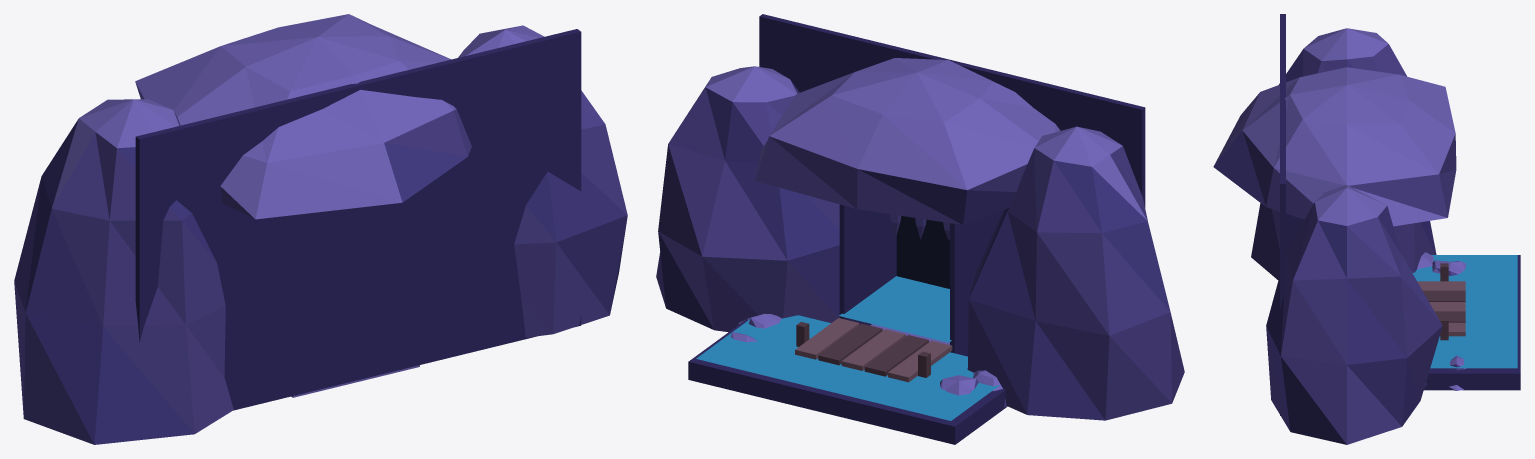
The model's file is Mine_Door_Flooded.obj.
3 views of the same model, side by side, from view 1: azimuth 30°, elevation 25°; view 2: azimuth 150°, elevation 25°; view 3: azimuth 270°, elevation 25° (orthographic). The views are drawn at different scales.
Visible parts, largest first — view 1: Mine_Door_Flooded; view 2: Mine_Door_Flooded; view 3: Mine_Door_Flooded.
Part boxes in pixels (box(x1,y1,x2,y2)): Mine_Door_Flooded: box(14, 14, 627, 444); Mine_Door_Flooded: box(656, 14, 1184, 444); Mine_Door_Flooded: box(1213, 14, 1520, 444).
Bounding box in the file's own units: 8.9 × 4.53 × 5.04.
